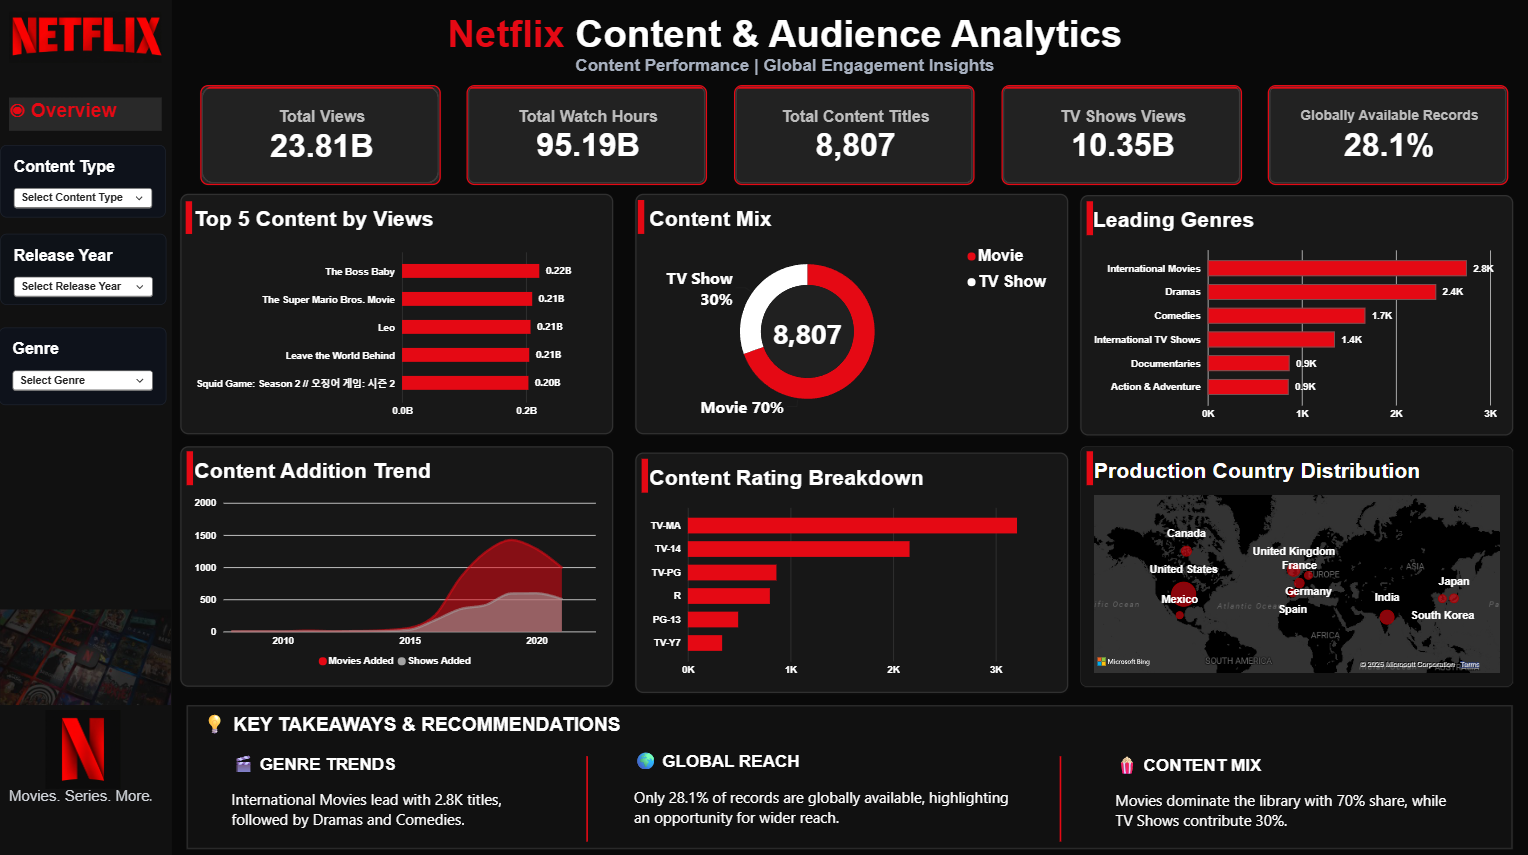

This screenshot's page, from the dashboard's own definition file:
{"tool":"powerbi","page":{"name":"Page 1","canvas":[1920,1080],"ordinal":0},"visuals":[{"type":"shape","box":[0,0,214.8,1081.5],"z":0},{"type":"textbox","box":[12.2,127.3,190.1,41.9],"z":1000},{"type":"image","box":[1.7,760.5,212.8,130.8],"z":2000},{"type":"textbox","box":[12.2,989,214.5,36.6],"z":3000},{"type":"textbox","box":[226,20,1508,128],"z":4000},{"type":"cardVisual","title":"TOTAL VIEWS","fields":{"Data":["public movies_engagement.Total Views Latest Period (B)"]},"box":[250.6,111.8,300,125],"z":5000},{"type":"cardVisual","title":"TOTAL VIEWS","fields":{"Data":["public movies_engagement.Total Watch Hours (B)"]},"box":[583.7,111.8,300,125],"z":6000},{"type":"cardVisual","title":"TOTAL VIEWS","fields":{"Data":["public movies_engagement.Total Content Titles"]},"box":[916.8,111.8,300,125],"z":7000},{"type":"cardVisual","title":"TOTAL VIEWS","fields":{"Data":["public movies_engagement.TV Shows Views (B)"]},"box":[1249.9,111.8,300,125],"z":8000},{"type":"cardVisual","title":"TOTAL VIEWS","fields":{"Data":["public movies_engagement.Global Availability %"]},"box":[1583,111.8,300,125],"z":9000},{"type":"donutChart","title":"Content Mix","fields":{"Category":["public netflix_titles.type"],"Y":["Count(public netflix_titles.show_id)"]},"box":[792.7,247.7,540,300],"z":10000},{"type":"clusteredBarChart","title":"    Top 5 Content by Views","fields":{"Category":["public vw_top_10_content.title"],"Y":["public vw_top_10_content.Views (B)"]},"box":[226.7,247.7,540,300],"z":11000},{"type":"clusteredBarChart","title":"Leading Genres","fields":{"Category":["public vw_top_genres.genre"],"Y":["Sum(public vw_top_genres.total_titles)"]},"box":[1349,249,540,300],"z":12000},{"type":"clusteredBarChart","title":"Content Rating Breakdown","fields":{"Category":["public vw_content_ratings.rating"],"Y":["Sum(public vw_content_ratings.total_titles)"]},"box":[794,570,540,300],"z":13000},{"type":"areaChart","title":"Content Addition Trend","fields":{"Category":["public vw_content_added_trend.year"],"Y":["Sum(public vw_content_added_trend.movies_added)","Sum(public vw_content_added_trend.shows_added)"]},"box":[226.7,563.4,540,300],"z":14000},{"type":"shape","box":[234,886,1654,180],"z":15000},{"type":"listSlicer","title":"Content Type","fields":{"Values":["public netflix_titles.type"]},"box":[2.2,187.8,206.7,90],"z":16000},{"type":"listSlicer","title":"Release Year","fields":{"Values":["public netflix_titles.release_year"]},"box":[1.8,298.2,207.3,89.1],"z":17000},{"type":"listSlicer","title":"Genre","fields":{"Values":["public netflix_titles.listed_in"]},"box":[0,414.4,208.9,96.7],"z":18000},{"type":"textbox","box":[290,942.5,412.5,127.5],"z":19000},{"type":"textbox","box":[792,940,488,130],"z":20000},{"type":"textbox","box":[1392.7,945.5,429.1,125.5],"z":21000},{"type":"shape","box":[709.9,948.8,48.3,106.7],"z":22000},{"type":"shape","box":[1295.9,948.8,56.7,106.7],"z":23000},{"type":"map","title":"Production Country Distribution","fields":{"Category":["public vw_country_distribution.country"],"Size":["Sum(public vw_country_distribution.total_titles)"]},"box":[1349,563,540,300],"z":24000},{"type":"image","box":[46,892,116,98],"z":25000},{"type":"image","box":[12.2,14,190.1,76.7],"z":26000},{"type":"shape","box":[223.3,256.7,27.8,41.1],"z":27000},{"type":"shape","box":[787.7,256.2,26.9,42.3],"z":28000},{"type":"shape","box":[1349.2,256.9,20.8,42.3],"z":29000},{"type":"shape","box":[1349.2,569.2,20.8,42.3],"z":30000},{"type":"shape","box":[794.4,577.8,20.8,42.3],"z":31000},{"type":"shape","box":[227.7,569.2,20.8,42.3],"z":32000},{"type":"textbox","box":[252,892,632,48],"z":33000}]}

Visuals, with their boxes in screenshot pixels (x1, y1, x2, y2), scaled from the page's 1920x1080 canvas onto the 1528x855 screenshot:
shape: crop(0, 0, 171, 854)
textbox: crop(10, 101, 161, 134)
image: crop(1, 602, 171, 706)
textbox: crop(10, 783, 180, 812)
textbox: crop(180, 16, 1380, 117)
"TOTAL VIEWS" cardVisual: crop(199, 89, 438, 187)
"TOTAL VIEWS" cardVisual: crop(465, 89, 703, 187)
"TOTAL VIEWS" cardVisual: crop(730, 89, 968, 187)
"TOTAL VIEWS" cardVisual: crop(995, 89, 1233, 187)
"TOTAL VIEWS" cardVisual: crop(1260, 89, 1499, 187)
"Content Mix" donutChart: crop(631, 196, 1061, 434)
"    Top 5 Content by Views" clusteredBarChart: crop(180, 196, 610, 434)
"Leading Genres" clusteredBarChart: crop(1074, 197, 1503, 435)
"Content Rating Breakdown" clusteredBarChart: crop(632, 451, 1062, 689)
"Content Addition Trend" areaChart: crop(180, 446, 610, 684)
shape: crop(186, 701, 1503, 844)
"Content Type" listSlicer: crop(2, 149, 166, 220)
"Release Year" listSlicer: crop(1, 236, 166, 307)
"Genre" listSlicer: crop(0, 328, 166, 405)
textbox: crop(231, 746, 559, 847)
textbox: crop(630, 744, 1019, 847)
textbox: crop(1108, 749, 1450, 848)
shape: crop(565, 751, 603, 836)
shape: crop(1031, 751, 1076, 836)
"Production Country Distribution" map: crop(1074, 446, 1503, 683)
image: crop(37, 706, 129, 784)
image: crop(10, 11, 161, 72)
shape: crop(178, 203, 200, 236)
shape: crop(627, 203, 648, 236)
shape: crop(1074, 203, 1090, 237)
shape: crop(1074, 451, 1090, 484)
shape: crop(632, 457, 649, 491)
shape: crop(181, 451, 198, 484)
textbox: crop(201, 706, 704, 744)
